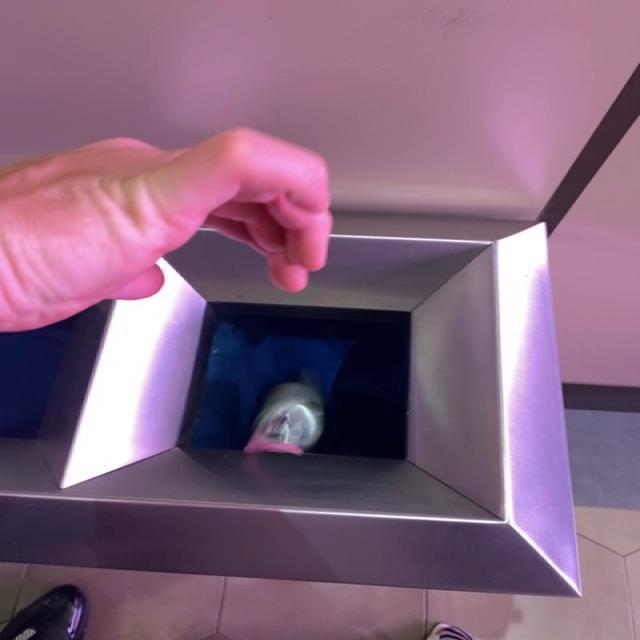Bin: (1, 214, 581, 596)
Metal: (244, 383, 323, 456)
